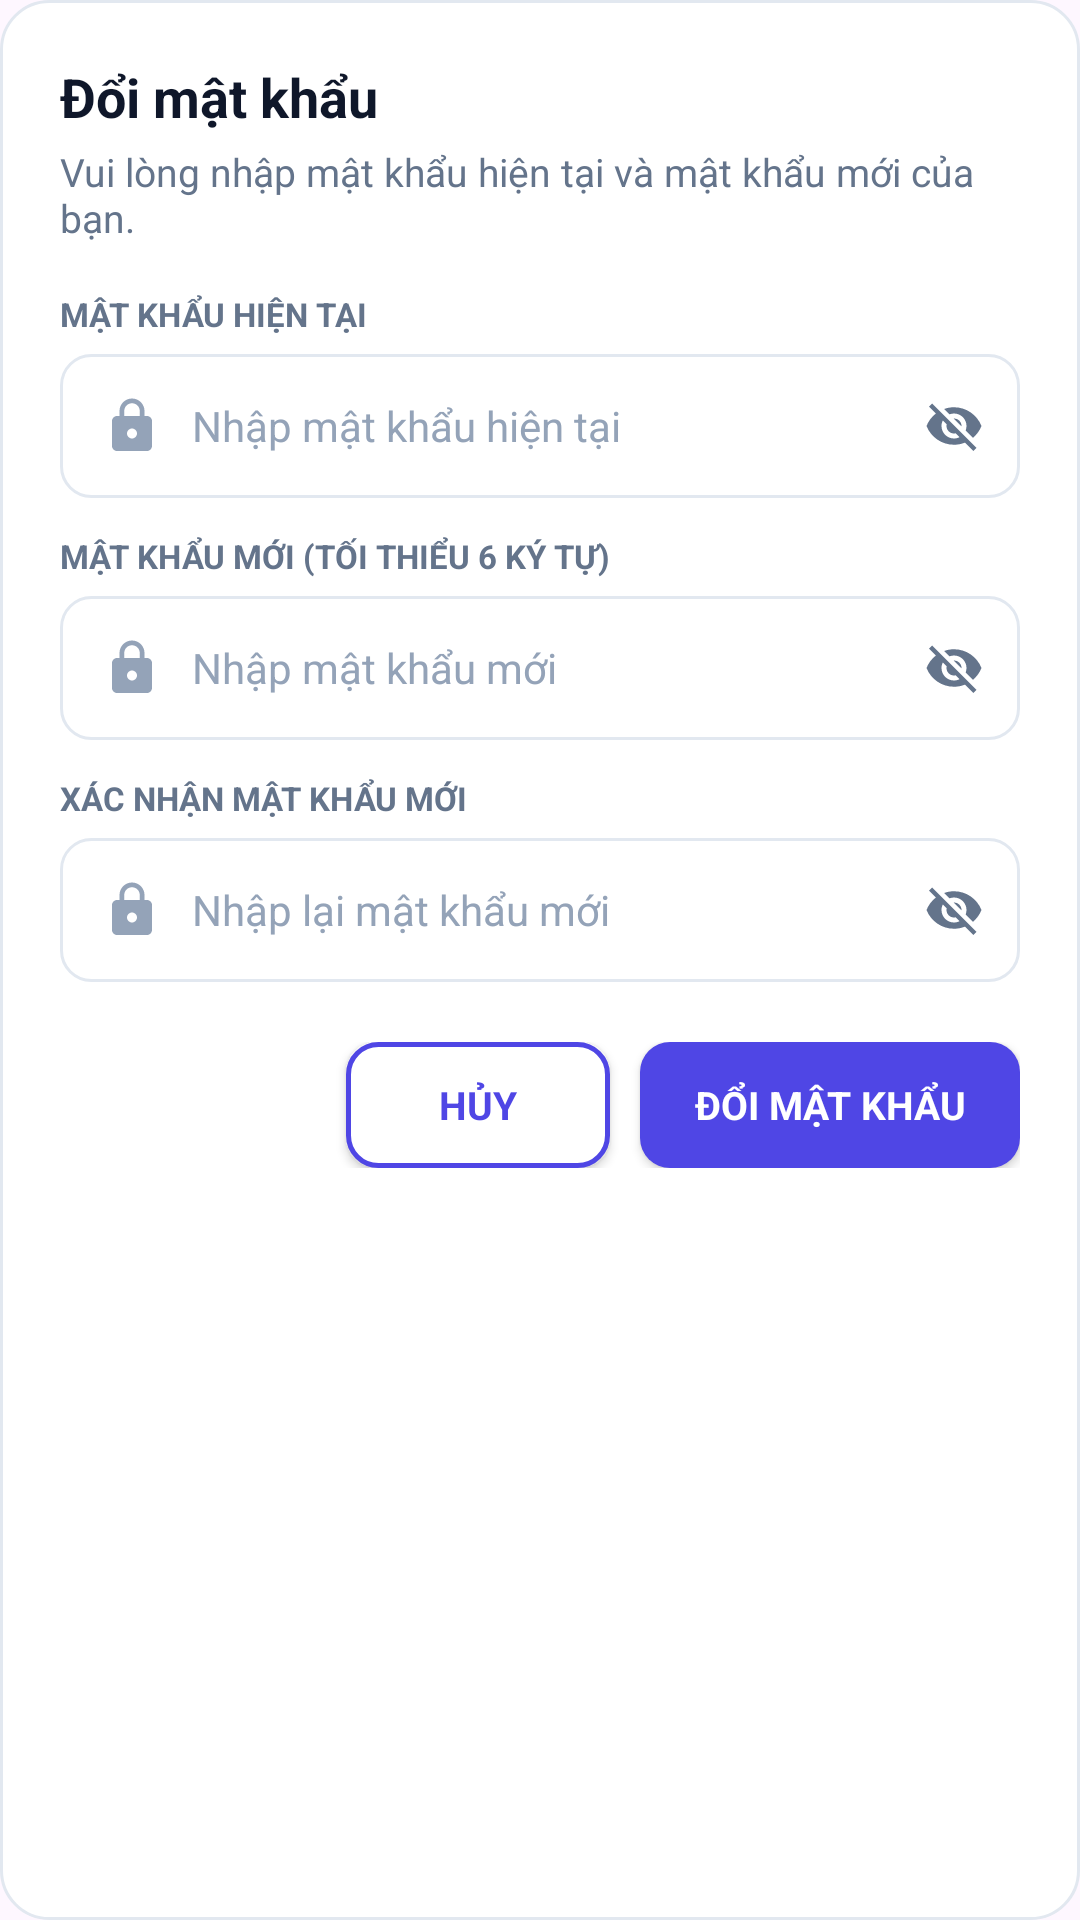

Icon click points for this 1080w x 1920h phone screenshot, format point (x, y):
Ẩn hiện mật khẩu hiện tại: point (954, 427)
Ẩn hiện mật khẩu mới: point (954, 669)
Ẩn hiện mật khẩu xác nhận: point (954, 911)
